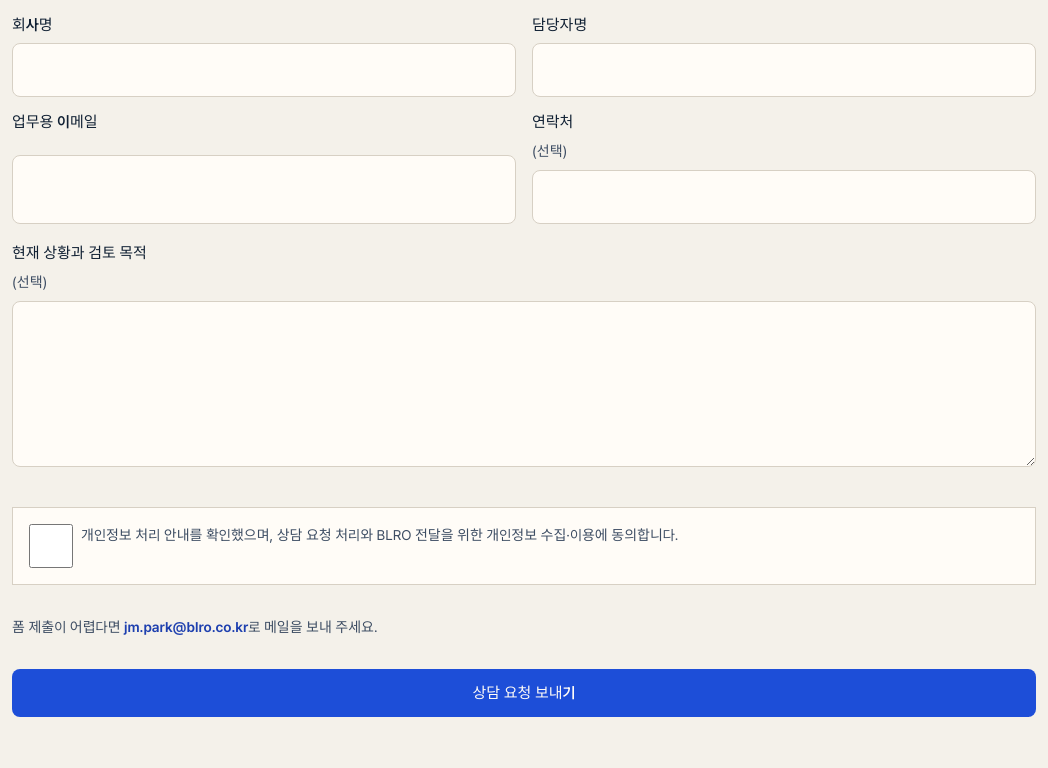
Test case: InquiryForm › shows success and clears the fields when the inquiry is accepted
Type "BLRO launch canary" into the field labelled "회사명" at (264, 70), box x1=12 y1=43 x2=516 y2=97
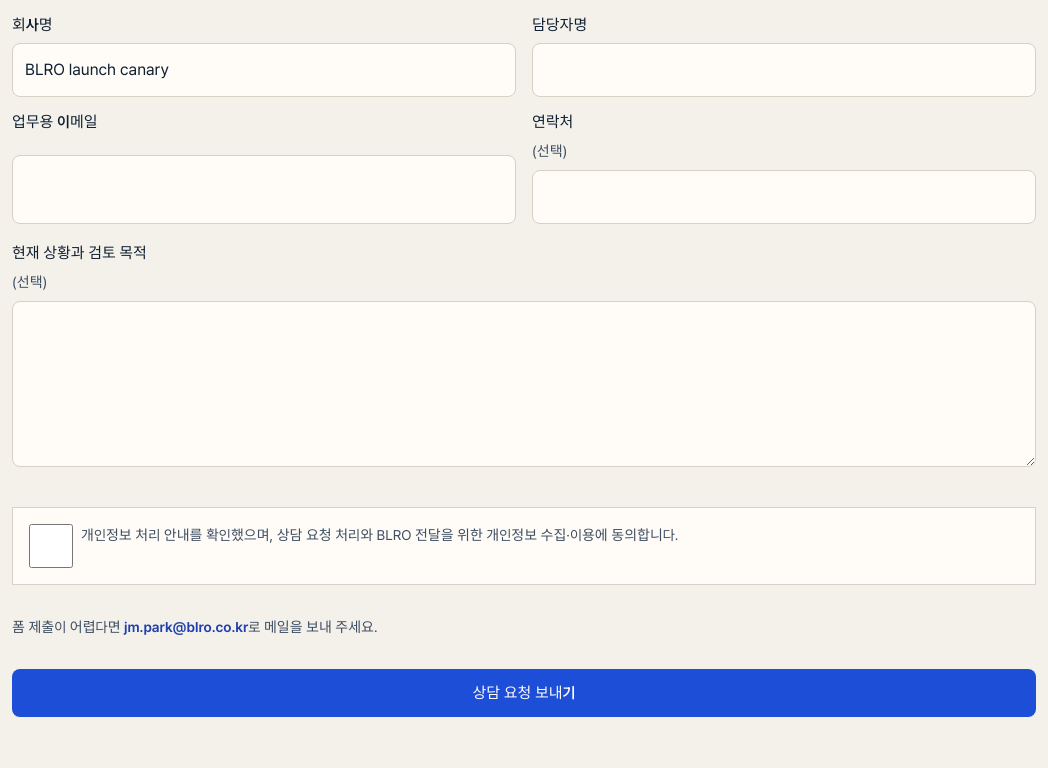
Type "운영 테스트" into the field labelled "담당자명" at (784, 70), box x1=532 y1=43 x2=1036 y2=97
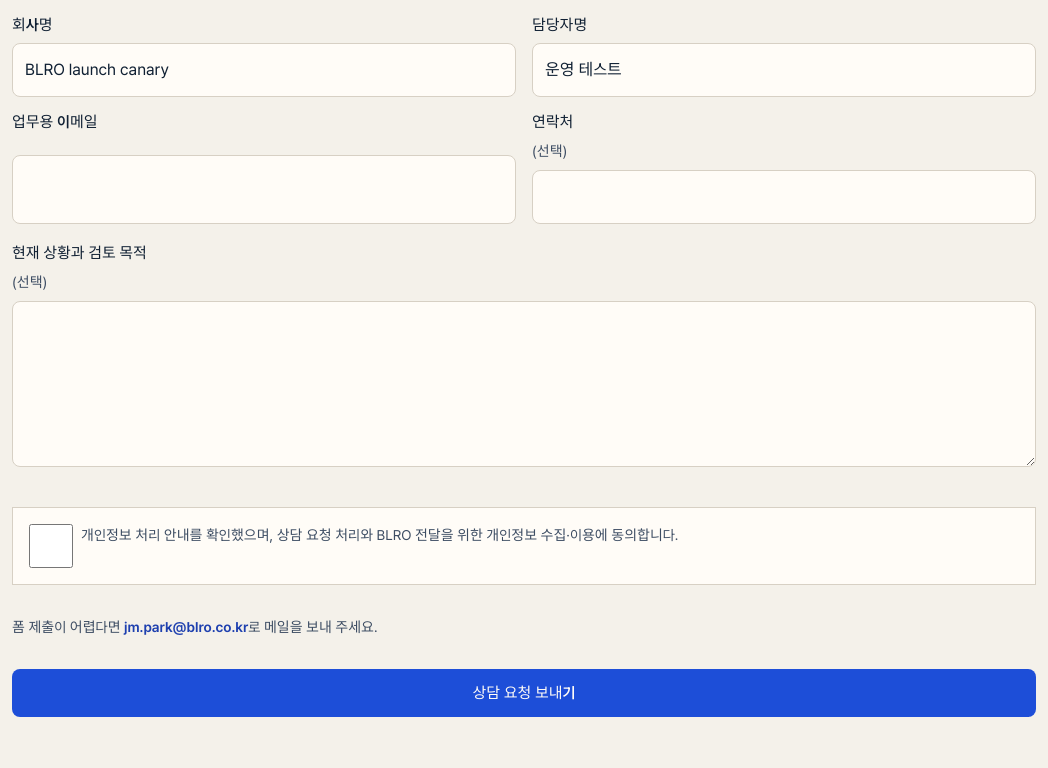
Type "jm.park@blro.co.kr" into the field labelled "업무용 이메일" at (264, 189), box x1=12 y1=155 x2=516 y2=224
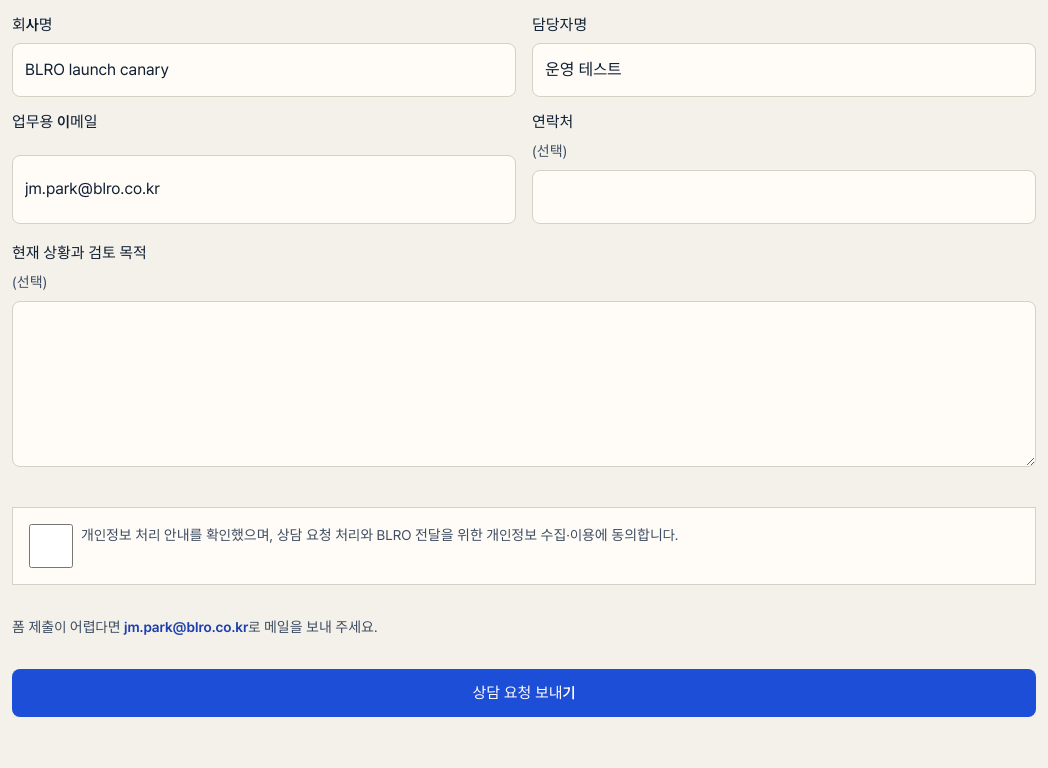
Type "운영 문의 흐름 검증용 테스트입니다." into the text box labelled "현재 상황과 검토 목적 (선택)" at (524, 384), box x1=12 y1=301 x2=1036 y2=467
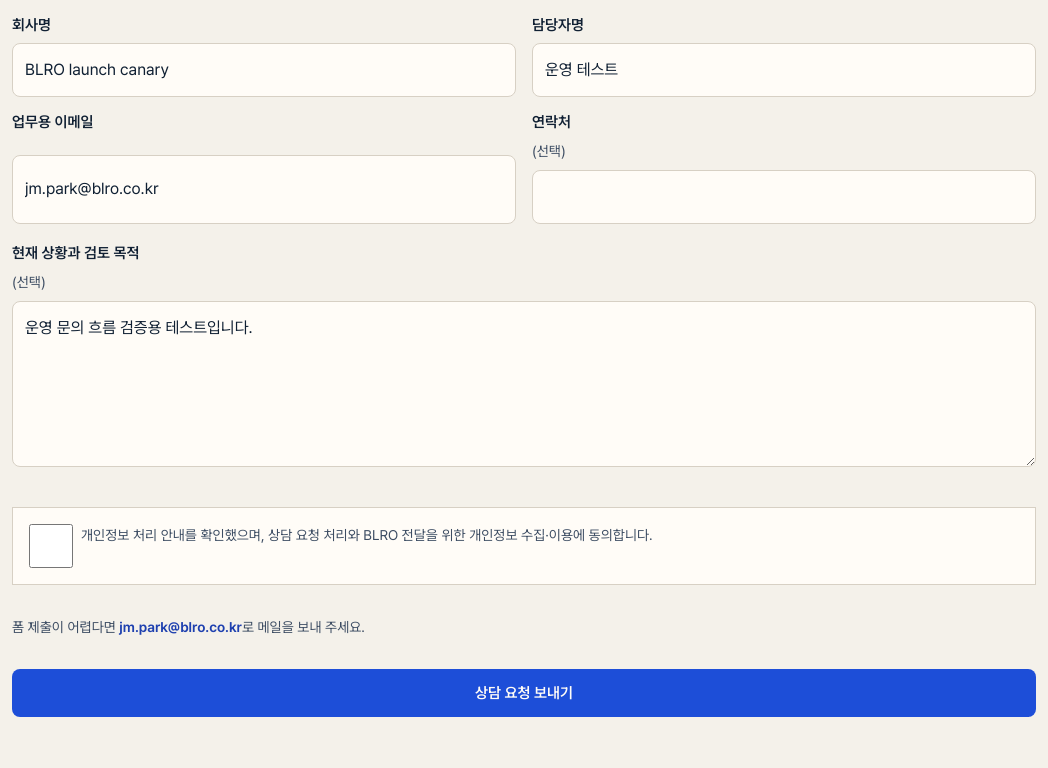
Click the checkbox labelled "개인정보 처리 안내 를 확인했으며, 상담 요청 처리와 BLRO 전달을 위한 개인정보 수집·이용에 동의합니다." at (51, 546), box x1=29 y1=524 x2=73 y2=568
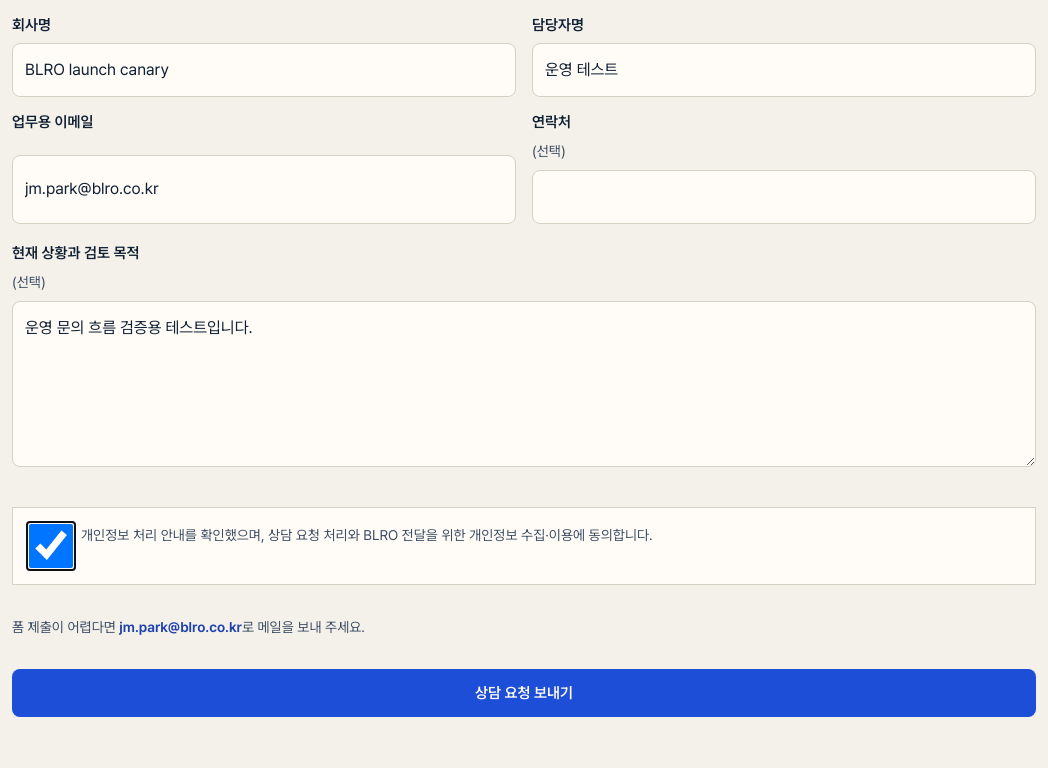
Click the button "상담 요청 보내기" at (524, 693), box x1=12 y1=669 x2=1036 y2=717
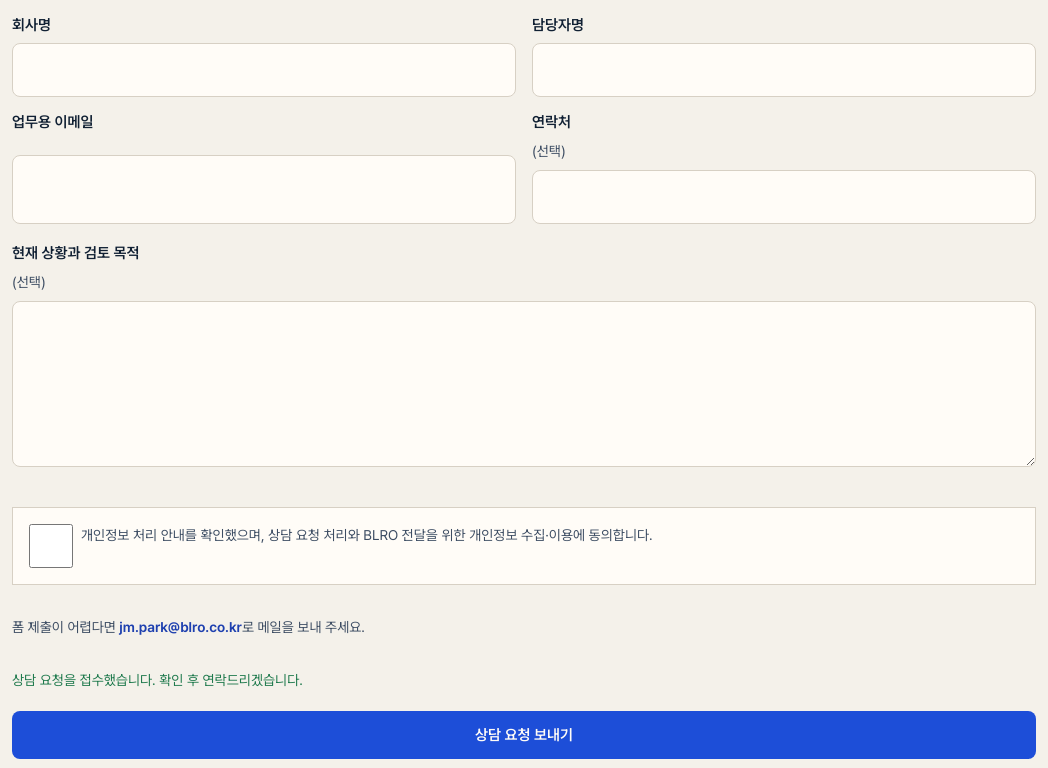
Expected: the message "상담 요청을 접수했습니다. 확인 후 연락드리겠습니다." is shown, x1=12 y1=672 x2=303 y2=688
Expected: the field labelled "회사명" is empty, x1=12 y1=43 x2=516 y2=97
Expected: the field labelled "담당자명" is empty, x1=532 y1=43 x2=1036 y2=97
